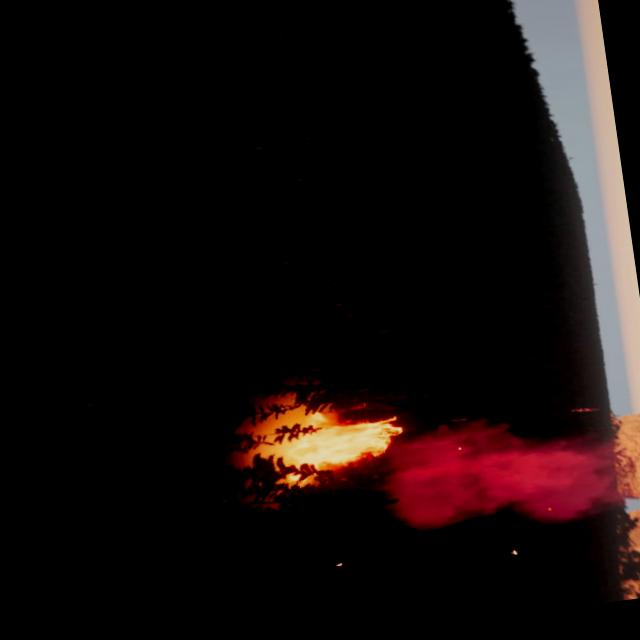fire: (277, 410, 408, 488)
smoke: (382, 403, 616, 542)
